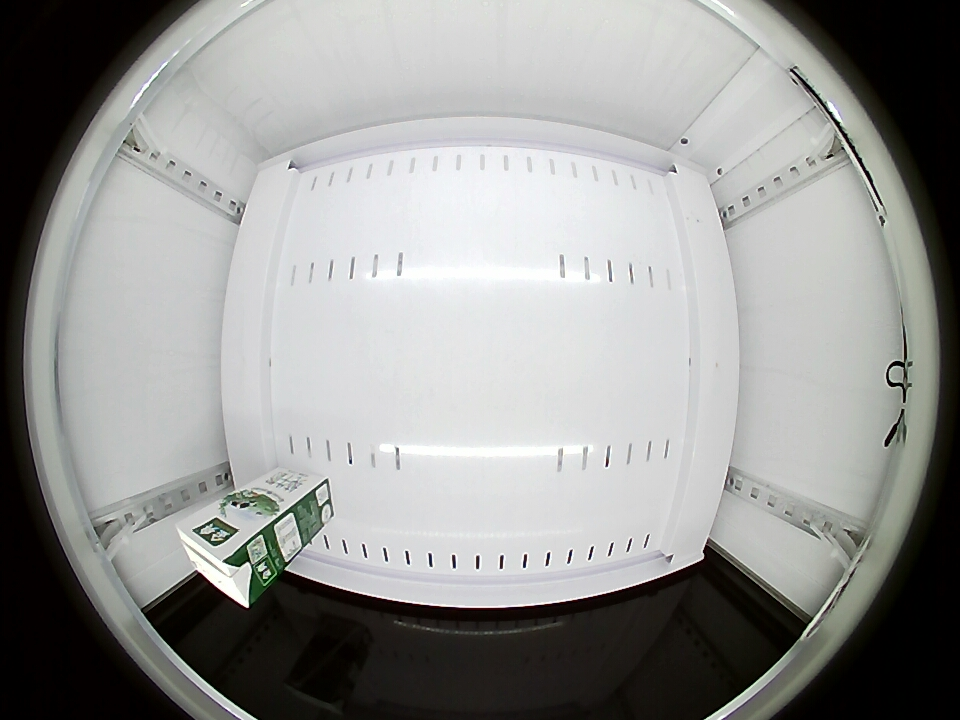jindian: (177, 508, 272, 610)
